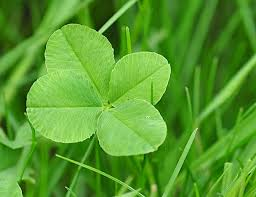4-clover: (26, 22, 169, 157)
